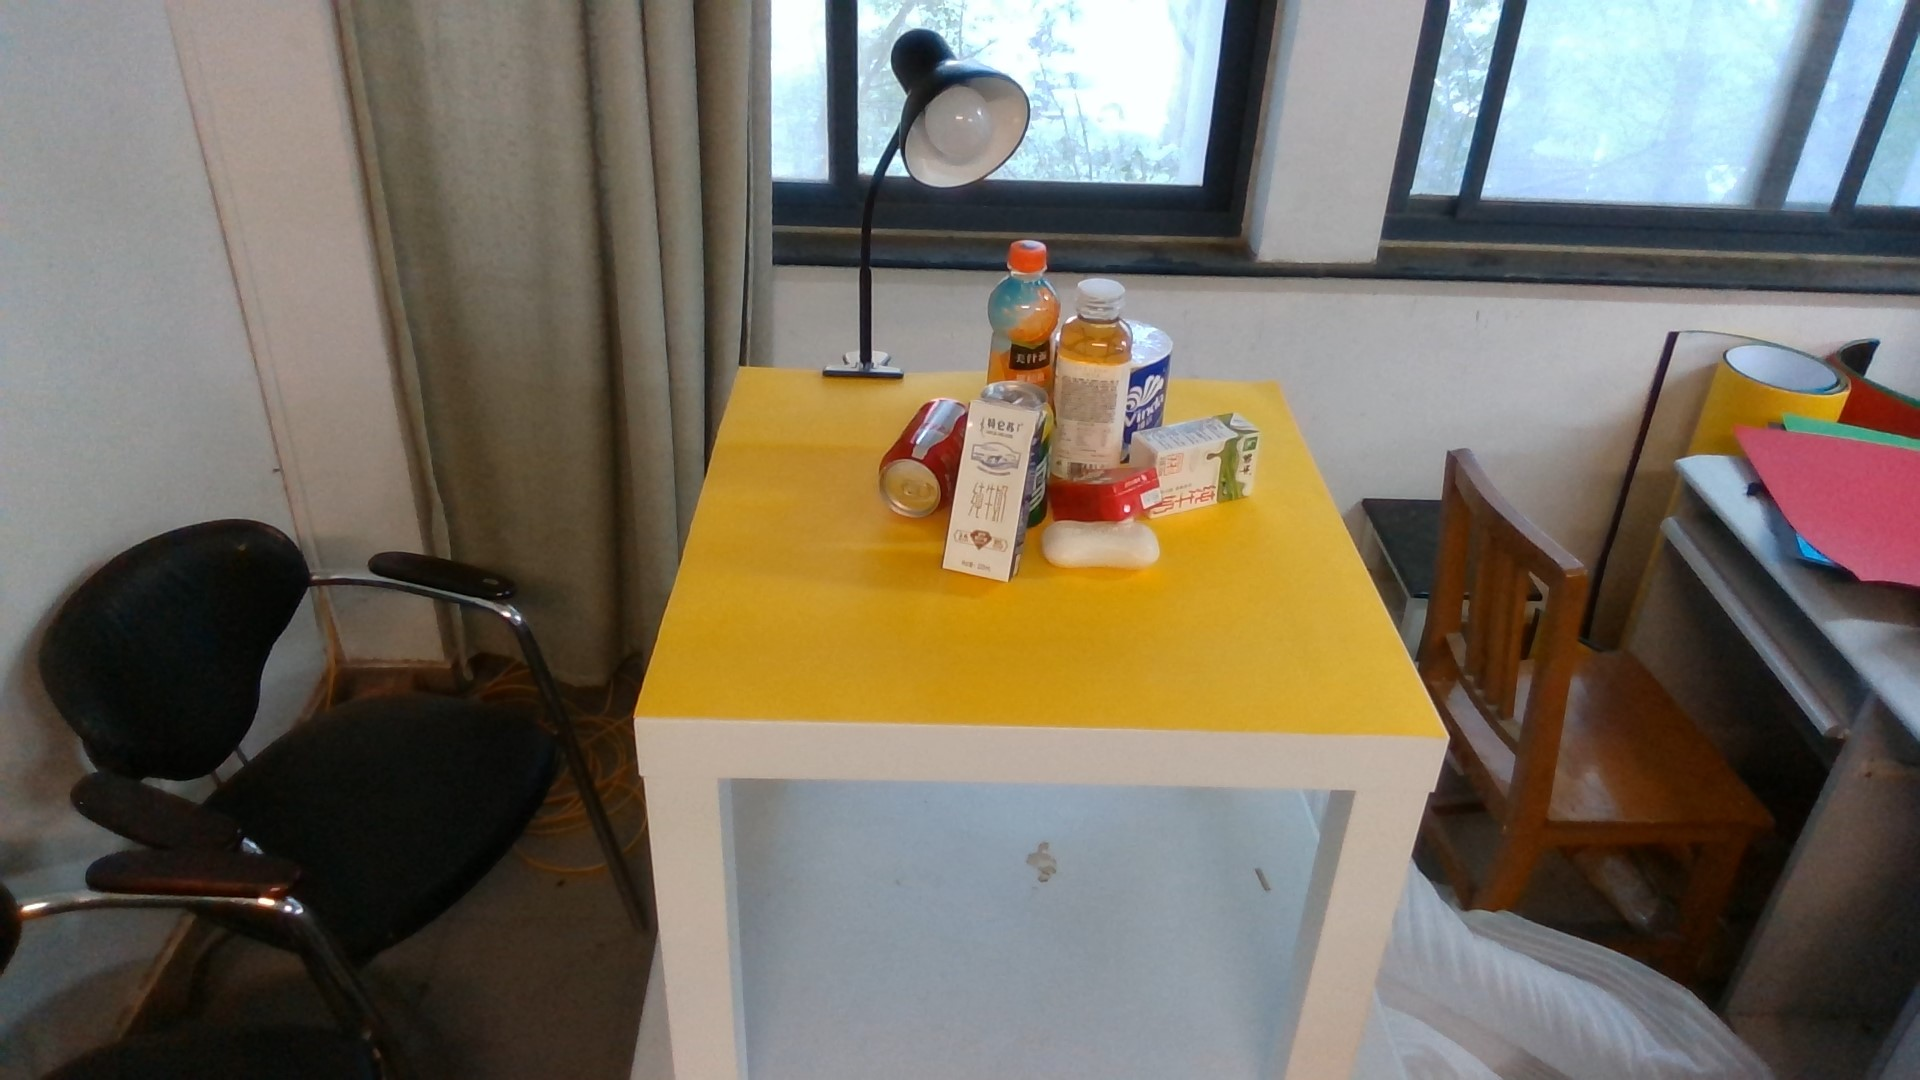BB003: (1040, 520, 1160, 571)
BB009: (1160, 414, 1261, 506)
BB010: (952, 400, 1043, 582)
BB012: (1048, 469, 1160, 527)
CA002: (1130, 314, 1172, 425)
ZC001: (1033, 434, 1051, 524)
ZC002: (880, 402, 951, 517)
ZC006: (986, 237, 1051, 380)
ZC012: (1054, 272, 1127, 465)
